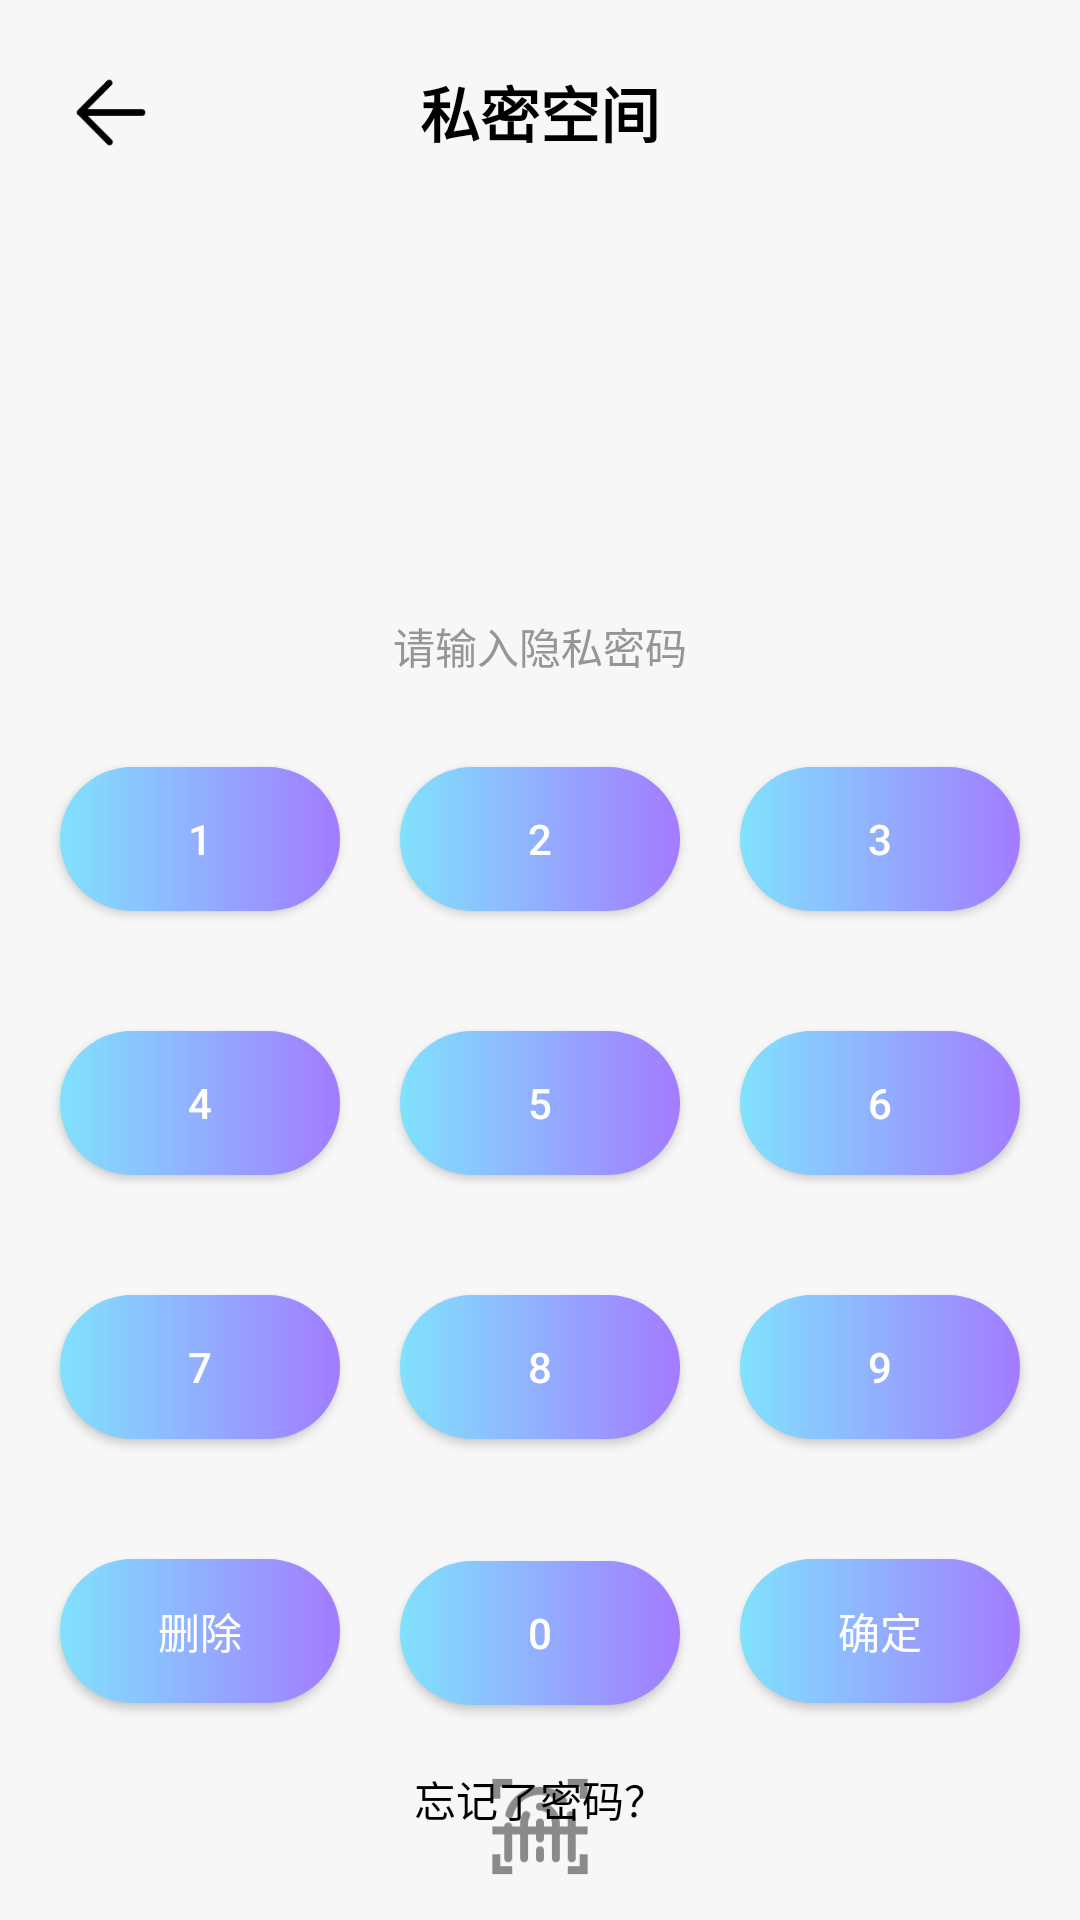

Named icons in this screenshot (1080x1920) and their bounding boxes, [x1, y1, x2, y2]:
back android: [76, 79, 146, 146]
